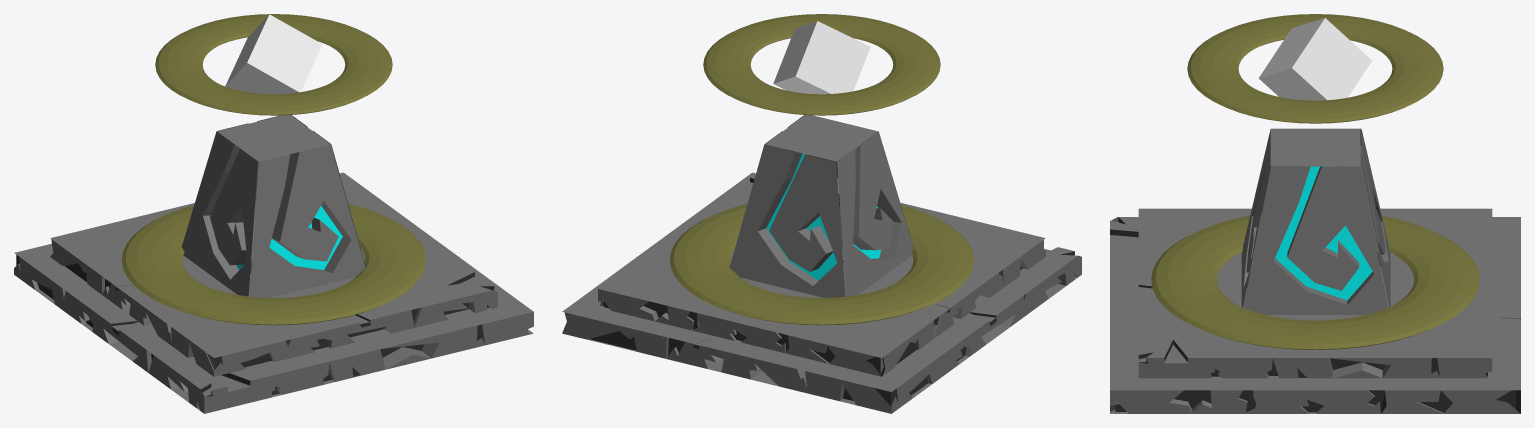
The model's file is totem.fbx.
The picture shows the model from 3 angles, left to right: view 1: azimuth 30°, elevation 25°; view 2: azimuth 150°, elevation 25°; view 3: azimuth 270°, elevation 25°; orthographic projection. The views are drawn at different scales.
Parts seen in each view (by area): view 1: totem; view 2: totem; view 3: totem.
Part boxes in pixels (bbox=[...]): totem: bbox=[14, 14, 533, 413]; totem: bbox=[562, 14, 1081, 413]; totem: bbox=[1110, 14, 1520, 413].
Size of the model in its own units: 783 by 651 by 783.
